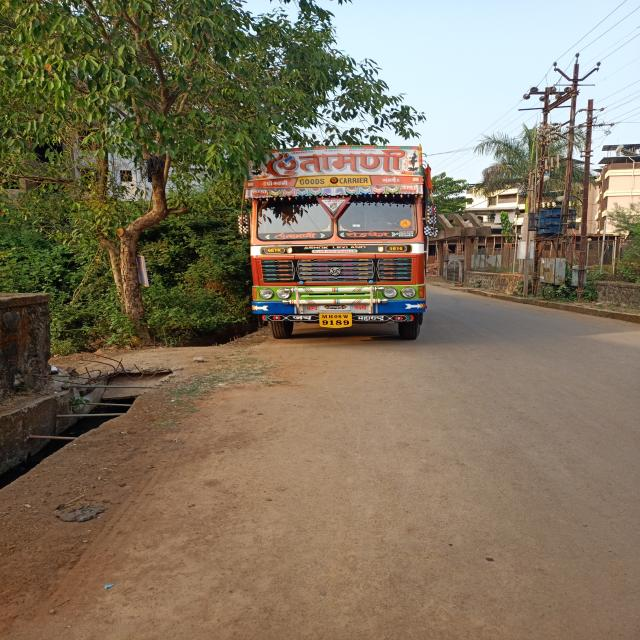Truck: (210, 122, 455, 344)
